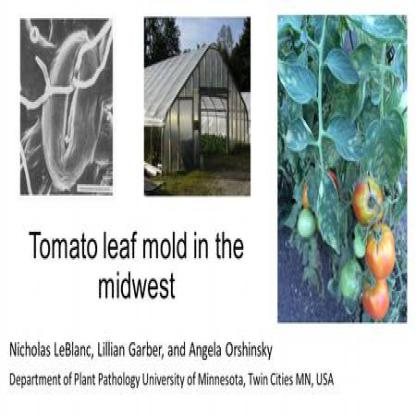Tomato mold leaf: (366, 104, 403, 196), (314, 173, 342, 255), (277, 59, 317, 105), (328, 115, 369, 159), (324, 46, 363, 92), (287, 113, 312, 158)
